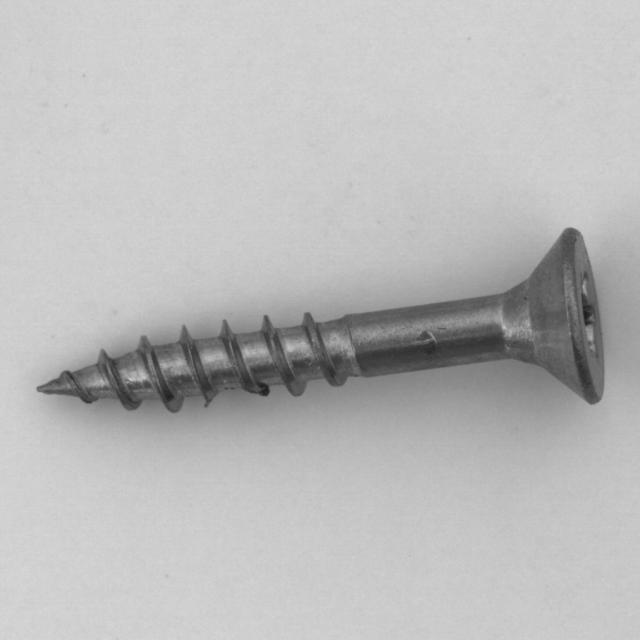Dry Waste: (55, 223, 640, 487)
